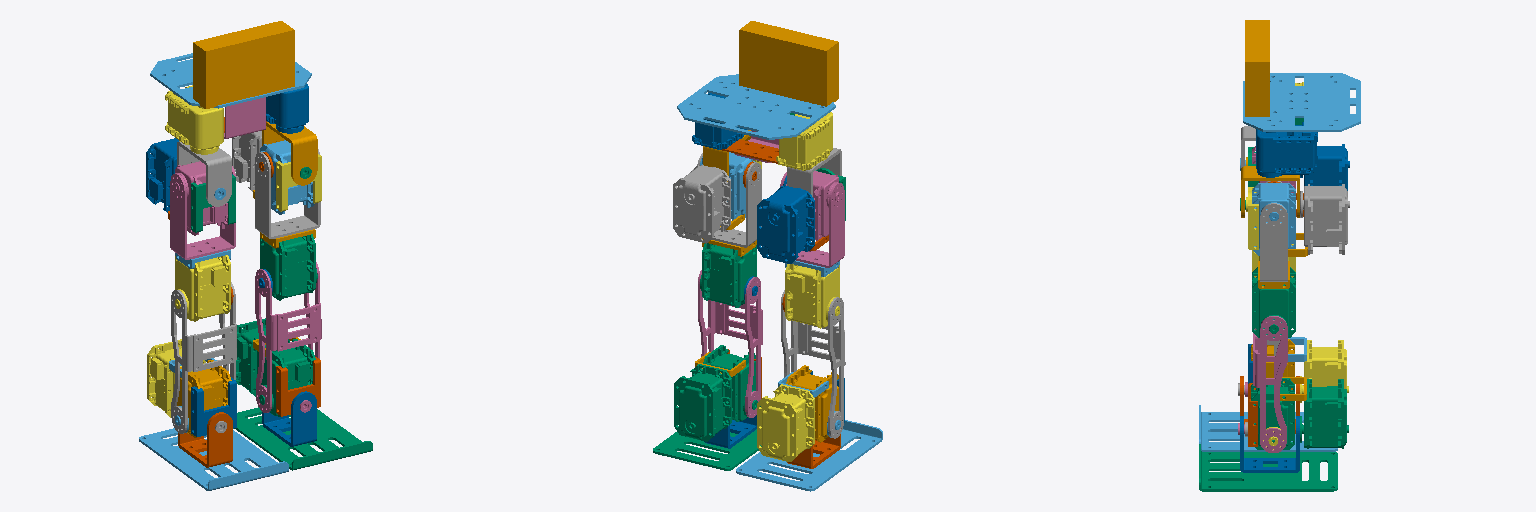
--- Render facts (derived) ---
3 views of the same robot in one strip: view 1: azimuth 30°, elevation 25°; view 2: azimuth 150°, elevation 25°; view 3: azimuth 270°, elevation 25° (orthographic).
Robot: Biped — 51 links, 50 joints (12 continuous, 38 fixed); root link base_link; default pose: every joint at zero.
Links seen in each view (by area): view 1: base_box, Foot_L1, Knee_Foot_Bracket_L1, Knee_Foot_bracket_R1, Foot_R1, Knee_servo_Pitch_L1, Knee_servo_Pitch_R1, Hip_servo_Yaw_L1, Hip_Knee_bracket_L1, Hip_Knee_Backet_R1, base_link, foot_connect_L1 (+17 smaller); view 2: base_box, base_link, Hip_servo_roll_L1, Hip_servo_roll_R1, foot_servo_roll_L1, foot_Servo_roll_R1, Foot_L1, Knee_Foot_Bracket_L1, Knee_Foot_bracket_R1, Knee_servo_Pitch_L1, Knee_servo_Pitch_R1, Foot_R1 (+13 smaller); view 3: base_link, Foot_R1, Hip_servo_roll_R1, Knee_Foot_bracket_R1, foot_Servo_roll_R1, Hip_servo_Yaw__R_1, base_box, Hip_Knee_Backet_R1, Foot_L1, Knee_servo_Pitch_R1, foot_servo_roll_L1, Hip_servo_Pitch_R1 (+5 smaller).
Boxes of the visible links, x1,y1,x2,y2 form: base_box: (193,21,294,108); Foot_L1: (139,428,288,490); Knee_Foot_Bracket_L1: (171,282,236,433); Knee_Foot_bracket_R1: (255,262,321,412); Foot_R1: (234,407,372,470); Knee_servo_Pitch_L1: (175,255,230,321); Knee_servo_Pitch_R1: (260,234,317,300); Hip_servo_Yaw_L1: (165,85,223,154); Hip_Knee_bracket_L1: (170,166,235,259); Hip_Knee_Backet_R1: (255,149,320,238); base_link: (150,53,311,108); foot_connect_L1: (178,412,232,467); base_box: (739,21,838,106); base_link: (677,74,835,139); Hip_servo_roll_L1: (757,186,814,263); Hip_servo_roll_R1: (673,165,730,243); foot_servo_roll_L1: (757,384,814,461); foot_Servo_roll_R1: (674,364,731,441); Foot_L1: (736,420,882,491); Knee_Foot_Bracket_L1: (781,290,845,438); Knee_Foot_bracket_R1: (698,270,762,417); Knee_servo_Pitch_L1: (785,264,839,328); Knee_servo_Pitch_R1: (700,243,756,307); Foot_R1: (653,406,761,470); base_link: (1243,73,1360,131); Foot_R1: (1199,444,1337,491); Hip_servo_roll_R1: (1300,184,1349,254); Knee_Foot_bracket_R1: (1253,316,1287,452); foot_Servo_roll_R1: (1300,379,1348,448); Hip_servo_Yaw__R_1: (1256,122,1317,177); base_box: (1245,20,1269,116); Hip_Knee_Backet_R1: (1260,181,1287,281); Foot_L1: (1199,405,1337,451); Knee_servo_Pitch_R1: (1252,267,1295,337); foot_servo_roll_L1: (1300,340,1348,402); Hip_servo_Pitch_R1: (1252,183,1295,255).
Bounding box of the posed robot: 0.148 × 0.131 × 0.3599 m (x, y, z).
50 mesh visuals loaded from 50 distinct referenced files (50 binary STL).

The robot description file, URDF, robot "Biped":
<?xml version="1.0" ?>
<robot name="Biped">

<material name="silver">
  <color rgba="0.700 0.700 0.700 1.000"/>
</material>

<link name="base_box">
  <inertial>
    
    <!--origin xyz="-0.07139043603557767 -0.16954551899156534 0.300032870177832" rpy="0 0 0"/-->
    <mass value="0.01"/>
    <inertia ixx="0.00025" ixy="0" ixz="0" iyy="0.00089" iyz="0" izz="0.00064"/>
     
     <!--inertia ixx="0.00250000000000000006" ixy="0" ixz="0" iyy="0.0089000000000000002" iyz="0" izz="0.00640" for m= 1/-->
  </inertial>
  <visual>
    <origin xyz="0 0 0" rpy="0 0 0"/>
    <geometry>
      <box size=".08 .02 .05"/>
    </geometry>
    <material name="silver"/>
    <material/>
  </visual>
  <collision>
    <origin xyz="0 0 0" rpy="0 0 0"/>
    <geometry>
      <box size=".08 .02 .05"/>
    </geometry>
  </collision>
</link>

<link name="base_link">
  <inertial>
    <origin xyz="0.06060872462491695 0.036723589973975845 0.30999861161402337" rpy="0 0 0"/>
    <mass value="0.02188916916153513"/>
    <inertia ixx="1.4745375687328505e-05" iyy="2.054443019497247e-05" izz="3.527521310286041e-05" ixy="-9.684751620381694e-09" iyz="-2.168404344971009e-19" ixz="1.0842021724855044e-19"/>
  </inertial>
  <visual>
    <origin xyz="0 0 0" rpy="0 0 0"/>
    <geometry>
      <mesh filename="meshes/base_link.stl" scale="0.001 0.001 0.001"/>
    </geometry>
    <material name="silver"/>
    <material/>
  </visual>
  <collision>
    <origin xyz="0 0 0" rpy="0 0 0"/>
    <geometry>
      <mesh filename="meshes/base_link.stl" scale="0.001 0.001 0.001"/>
    </geometry>
  </collision>
</link>

<link name="connect_link_v11">
  <inertial>
    <origin xyz="8.755939062687901e-08 -0.005999506282332957 -0.0032503883859776317" rpy="0 0 0"/>
    <mass value="0.00969209120805048"/>
    <inertia ixx="4.4427801889897027e-07" iyy="2.5957966162830142e-06" izz="2.9718261595912686e-06" ixy="5.759824041329242e-20" iyz="-2.710505431213761e-20" ixz="0.0"/>
  </inertial>
  <visual>
    <origin xyz="-0.060628 -0.038873 -0.308999" rpy="0 0 0"/>
    <geometry>
      <mesh filename="meshes/connect_link_v11.stl" scale="0.001 0.001 0.001"/>
    </geometry>
    <material name="silver"/>
    <material/>
  </visual>
  <collision>
    <origin xyz="-0.060628 -0.038873 -0.308999" rpy="0 0 0"/>
    <geometry>
      <mesh filename="meshes/connect_link_v11.stl" scale="0.001 0.001 0.001"/>
    </geometry>
  </collision>
</link>

<link name="Hip_servo_Yaw_L1">
  <inertial>
    <origin xyz="-0.013531113018413154 -0.00969047444291548 -0.01700249284622163" rpy="0 0 0"/>
    <mass value="0.056156082900612025"/>
    <inertia ixx="1.6178335463269515e-05" iyy="8.950870395210524e-06" izz="1.3635436612402693e-05" ixy="1.4223614970348356e-08" iyz="-1.1036335249283921e-07" ixz="-1.9200076826824883e-09"/>
  </inertial>
  <visual>
    <origin xyz="-0.035628 -0.032873 -0.302499" rpy="0 0 0"/>
    <geometry>
      <mesh filename="meshes/Hip_servo_Yaw_L1.stl" scale="0.001 0.001 0.001"/>
    </geometry>
    <material name="silver"/>
    <material/>
  </visual>
  <collision>
    <origin xyz="-0.035628 -0.032873 -0.302499" rpy="0 0 0"/>
    <geometry>
      <mesh filename="meshes/Hip_servo_Yaw_L1.stl" scale="0.001 0.001 0.001"/>
    </geometry>
  </collision>
</link>

<link name="Hip_servo_Yaw__R_1">
  <inertial>
    <origin xyz="0.013468886981585007 -0.00969047444291786 -0.016802492846221484" rpy="0 0 0"/>
    <mass value="0.056156082900612025"/>
    <inertia ixx="1.617833546327125e-05" iyy="8.950870395210524e-06" izz="1.3635436612402605e-05" ixy="1.4223614970267041e-08" iyz="-1.1036335249289342e-07" ixz="-1.920007683007749e-09"/>
  </inertial>
  <visual>
    <origin xyz="-0.085628 -0.032873 -0.302499" rpy="0 0 0"/>
    <geometry>
      <mesh filename="meshes/Hip_servo_Yaw__R_1.stl" scale="0.001 0.001 0.001"/>
    </geometry>
    <material name="silver"/>
    <material/>
  </visual>
  <collision>
    <origin xyz="-0.085628 -0.032873 -0.302499" rpy="0 0 0"/>
    <geometry>
      <mesh filename="meshes/Hip_servo_Yaw__R_1.stl" scale="0.001 0.001 0.001"/>
    </geometry>
  </collision>
</link>

<link name="connect_link_21">
  <inertial>
    <origin xyz="0.025000087559390392 4.93717667540694e-07 -0.0007503883859772409" rpy="0 0 0"/>
    <mass value="0.0022366364326270346"/>
    <inertia ixx="9.507024189355125e-08" iyy="5.915745335974634e-07" izz="6.858060368287546e-07" ixy="1.4399560103323106e-20" iyz="3.3881317890172014e-21" ixz="6.776263578034403e-21"/>
  </inertial>
  <visual>
    <origin xyz="-0.035628 -0.032873 -0.270499" rpy="0 0 0"/>
    <geometry>
      <mesh filename="meshes/connect_link_21.stl" scale="0.001 0.001 0.001"/>
    </geometry>
    <material name="silver"/>
    <material/>
  </visual>
  <collision>
    <origin xyz="-0.035628 -0.032873 -0.270499" rpy="0 0 0"/>
    <geometry>
      <mesh filename="meshes/connect_link_21.stl" scale="0.001 0.001 0.001"/>
    </geometry>
  </collision>
</link>

<link name="support_link1">
  <inertial>
    <origin xyz="8.755938650517603e-08 -0.01899092222380293 0.008312349694208576" rpy="0 0 0"/>
    <mass value="0.004271598629814522"/>
    <inertia ixx="9.380132827919367e-07" iyy="9.819874908971005e-07" izz="8.644459883259723e-07" ixy="-2.82061971435682e-19" iyz="2.809956492261554e-07" ixz="1.4907779871675686e-19"/>
  </inertial>
  <visual>
    <origin xyz="-0.060628 -0.038873 -0.268999" rpy="0 0 0"/>
    <geometry>
      <mesh filename="meshes/support_link1.stl" scale="0.001 0.001 0.001"/>
    </geometry>
    <material name="silver"/>
    <material/>
  </visual>
  <collision>
    <origin xyz="-0.060628 -0.038873 -0.268999" rpy="0 0 0"/>
    <geometry>
      <mesh filename="meshes/support_link1.stl" scale="0.001 0.001 0.001"/>
    </geometry>
  </collision>
</link>

<link name="Hip_bracket_yaw_L_v11">
  <inertial>
    <origin xyz="8.755937528151514e-08 -0.00019455926519733498 -0.012368152810058874" rpy="0 0 0"/>
    <mass value="0.008735700587823858"/>
    <inertia ixx="4.557715173367227e-06" iyy="1.596604357873184e-06" izz="3.6811077103368883e-06" ixy="-8.343274530454858e-20" iyz="-2.8340072973809954e-08" ixz="-3.503328269843786e-18"/>
  </inertial>
  <visual>
    <origin xyz="-0.022128 -0.010373 -0.265499" rpy="0 0 0"/>
    <geometry>
      <mesh filename="meshes/Hip_bracket_yaw_L_v11.stl" scale="0.001 0.001 0.001"/>
    </geometry>
    <material name="silver"/>
    <material/>
  </visual>
  <collision>
    <origin xyz="-0.022128 -0.010373 -0.265499" rpy="0 0 0"/>
    <geometry>
      <mesh filename="meshes/Hip_bracket_yaw_L_v11.stl" scale="0.001 0.001 0.001"/>
    </geometry>
  </collision>
</link>

<link name="Hip_Bracket_yaw_R1">
  <inertial>
    <origin xyz="8.755937279392167e-08 -0.0001945592651994444 -0.012368152810057986" rpy="0 0 0"/>
    <mass value="0.008735700587823858"/>
    <inertia ixx="4.557715173370263e-06" iyy="1.5966043578800144e-06" izz="3.681107710333268e-06" ixy="-7.115076756936123e-20" iyz="-2.8340072973769297e-08" ixz="-3.415236843329339e-18"/>
  </inertial>
  <visual>
    <origin xyz="-0.099128 -0.010373 -0.265699" rpy="0 0 0"/>
    <geometry>
      <mesh filename="meshes/Hip_Bracket_yaw_R1.stl" scale="0.001 0.001 0.001"/>
    </geometry>
    <material name="silver"/>
    <material/>
  </visual>
  <collision>
    <origin xyz="-0.099128 -0.010373 -0.265699" rpy="0 0 0"/>
    <geometry>
      <mesh filename="meshes/Hip_Bracket_yaw_R1.stl" scale="0.001 0.001 0.001"/>
    </geometry>
  </collision>
</link>

<link name="Bush_2_1">
  <inertial>
    <origin xyz="0.022128087559382902 0.21457600178506725 -0.04262638838534463" rpy="0 0 0"/>
    <mass value="0.00033912761870964644"/>
    <inertia ixx="3.5534106983028924e-09" iyy="4.084788845227892e-09" izz="3.553410474846204e-09" ixy="-2.6469779601696886e-23" iyz="-1.4336032632279033e-19" ixz="2.117582368135751e-22"/>
  </inertial>
  <visual>
    <origin xyz="0.0 0.226125 -0.279125" rpy="0 0 0"/>
    <geometry>
      <mesh filename="meshes/Bush_2_1.stl" scale="0.001 0.001 0.001"/>
    </geometry>
    <material name="silver"/>
    <material/>
  </visual>
  <collision>
    <origin xyz="0.0 0.226125 -0.279125" rpy="0 0 0"/>
    <geometry>
      <mesh filename="meshes/Bush_2_1.stl" scale="0.001 0.001 0.001"/>
    </geometry>
  </collision>
</link>

<link name="Bush_1_v11">
  <inertial>
    <origin xyz="-0.07712791244061934 -0.2586209982149346 -0.04262638838534433" rpy="0 0 0"/>
    <mass value="0.00033912761870964644"/>
    <inertia ixx="3.5534106983028924e-09" iyy="4.084788845234668e-09" izz="3.553410474846707e-09" ixy="5.293955920339377e-23" iyz="-1.4336032632279033e-19" ixz="0.0"/>
  </inertial>
  <visual>
    <origin xyz="-0.176256 -0.247072 -0.279325" rpy="0 0 0"/>
    <geometry>
      <mesh filename="meshes/Bush_1_v11.stl" scale="0.001 0.001 0.001"/>
    </geometry>
    <material name="silver"/>
    <material/>
  </visual>
  <collision>
    <origin xyz="-0.176256 -0.247072 -0.279325" rpy="0 0 0"/>
    <geometry>
      <mesh filename="meshes/Bush_1_v11.stl" scale="0.001 0.001 0.001"/>
    </geometry>
  </collision>
</link>

<link name="Washer_11">
  <inertial>
    <origin xyz="-0.09912791244096347 -0.008551506282331372 0.2366986116140234" rpy="0 0 0"/>
    <mass value="0.0001569470040624276"/>
    <inertia ixx="2.095397917133054e-09" iyy="4.096365919137407e-09" izz="2.095397782786852e-09" ixy="2.6469779601696886e-23" iyz="0.0" ixz="4.235164736271502e-22"/>
  </inertial>
  <visual>
    <origin xyz="-0.198256 -0.0 -0.0" rpy="0 0 0"/>
    <geometry>
      <mesh filename="meshes/Washer_11.stl" scale="0.001 0.001 0.001"/>
    </geometry>
    <material name="silver"/>
    <material/>
  </visual>
  <collision>
    <origin xyz="-0.198256 -0.0 -0.0" rpy="0 0 0"/>
    <geometry>
      <mesh filename="meshes/Washer_11.stl" scale="0.001 0.001 0.001"/>
    </geometry>
  </collision>
</link>

<link name="Hip_servo_roll_L1">
  <inertial>
    <origin xyz="0.02212792246244539 0.28094966903192353 -0.005937424755607296" rpy="0 0 0"/>
    <mass value="0.05848616148988177"/>
    <inertia ixx="1.6766044291456443e-05" iyy="1.3912202333722732e-05" izz="1.0380681129501561e-05" ixy="-2.87094284597781e-10" iyz="4.782213604587627e-07" ixz="4.278207660097372e-10"/>
  </inertial>
  <visual>
    <origin xyz="0.0 0.226125 -0.231125" rpy="0 0 0"/>
    <geometry>
      <mesh filename="meshes/Hip_servo_roll_L1.stl" scale="0.001 0.001 0.001"/>
    </geometry>
    <material name="silver"/>
    <material/>
  </visual>
  <collision>
    <origin xyz="0.0 0.226125 -0.231125" rpy="0 0 0"/>
    <geometry>
      <mesh filename="meshes/Hip_servo_roll_L1.stl" scale="0.001 0.001 0.001"/>
    </geometry>
  </collision>
</link>

<link name="Support_roll_servo_L1">
  <inertial>
    <origin xyz="-0.008342818068121632 -0.007693332734379908 -8.605220785384837e-07" rpy="0 0 0"/>
    <mass value="0.001003390579055556"/>
    <inertia ixx="5.969253484000835e-08" iyy="1.9068402818395841e-07" izz="2.44845355143008e-07" ixy="-1.0691242380712038e-09" iyz="-8.557850778121313e-13" ixz="1.6064752087411026e-10"/>
  </inertial>
  <visual>
    <origin xyz="-0.030628 -0.040148 -0.200699" rpy="0 0 0"/>
    <geometry>
      <mesh filename="meshes/Support_roll_servo_L1.stl" scale="0.001 0.001 0.001"/>
    </geometry>
    <material name="silver"/>
    <material/>
  </visual>
  <collision>
    <origin xyz="-0.030628 -0.040148 -0.200699" rpy="0 0 0"/>
    <geometry>
      <mesh filename="meshes/Support_roll_servo_L1.stl" scale="0.001 0.001 0.001"/>
    </geometry>
  </collision>
</link>

<link name="Hip_servo_Pitch_L1">
  <inertial>
    <origin xyz="0.014675874563868638 -0.00849934833873182 0.02448944364464442" rpy="0 0 0"/>
    <mass value="0.05848616148988177"/>
    <inertia ixx="1.3912202333719696e-05" iyy="1.6766044291457744e-05" izz="1.038068112949967e-05" ixy="2.8709428237516654e-10" iyz="-4.278207647357996e-10" ixz="4.782213604587085e-07"/>
  </inertial>
  <visual>
    <origin xyz="-0.007126 -0.021598 -0.200711" rpy="0 0 0"/>
    <geometry>
      <mesh filename="meshes/Hip_servo_Pitch_L1.stl" scale="0.001 0.001 0.001"/>
    </geometry>
    <material name="silver"/>
    <material/>
  </visual>
  <collision>
    <origin xyz="-0.007126 -0.021598 -0.200711" rpy="0 0 0"/>
    <geometry>
      <mesh filename="meshes/Hip_servo_Pitch_L1.stl" scale="0.001 0.001 0.001"/>
    </geometry>
  </collision>
</link>

<link name="Hip_servo_roll_R1">
  <inertial>
    <origin xyz="-7.753755698614029e-08 0.02042667618526226 -0.011311424755605842" rpy="0 0 0"/>
    <mass value="0.05848616148988177"/>
    <inertia ixx="1.6766044291457744e-05" iyy="1.3912202333722732e-05" izz="1.0380681129502347e-05" ixy="-2.870942846519911e-10" iyz="4.782213604588711e-07" ixz="4.278207660097372e-10"/>
  </inertial>
  <visual>
    <origin xyz="-0.099128 -0.034373 -0.236699" rpy="0 0 0"/>
    <geometry>
      <mesh filename="meshes/Hip_servo_roll_R1.stl" scale="0.001 0.001 0.001"/>
    </geometry>
    <material name="silver"/>
    <material/>
  </visual>
  <collision>
    <origin xyz="-0.099128 -0.034373 -0.236699" rpy="0 0 0"/>
    <geometry>
      <mesh filename="meshes/Hip_servo_roll_R1.stl" scale="0.001 0.001 0.001"/>
    </geometry>
  </collision>
</link>

<link name="Support_roll_Servo_R1">
  <inertial>
    <origin xyz="-0.008482904734634547 -0.007763870604140438 -7.445276328510442e-07" rpy="0 0 0"/>
    <mass value="0.000991152631600229"/>
    <inertia ixx="5.899142983411561e-08" iyy="1.8810254074607535e-07" izz="2.4162816800247254e-07" ixy="-6.052279683857172e-11" iyz="-1.6902670593133494e-12" ixz="1.5851502979013143e-10"/>
  </inertial>
  <visual>
    <origin xyz="-0.107628 -0.040123 -0.200899" rpy="0 0 0"/>
    <geometry>
      <mesh filename="meshes/Support_roll_Servo_R1.stl" scale="0.001 0.001 0.001"/>
    </geometry>
    <material name="silver"/>
    <material/>
  </visual>
  <collision>
    <origin xyz="-0.107628 -0.040123 -0.200899" rpy="0 0 0"/>
    <geometry>
      <mesh filename="meshes/Support_roll_Servo_R1.stl" scale="0.001 0.001 0.001"/>
    </geometry>
  </collision>
</link>

<link name="Hip_servo_Pitch_R1">
  <inertial>
    <origin xyz="-0.014676502879000491 -0.008499671379272359 0.024488710964318067" rpy="0 0 0"/>
    <mass value="0.05848616148988177"/>
    <inertia ixx="1.3912202333717094e-05" iyy="1.6766044291459913e-05" izz="1.0380681129500396e-05" ixy="2.8709428341871113e-10" iyz="4.2782076619947255e-10" ixz="-4.782213604574617e-07"/>
  </inertial>
  <visual>
    <origin xyz="-0.114126 -0.021593 -0.200886" rpy="0 0 0"/>
    <geometry>
      <mesh filename="meshes/Hip_servo_Pitch_R1.stl" scale="0.001 0.001 0.001"/>
    </geometry>
    <material name="silver"/>
    <material/>
  </visual>
  <collision>
    <origin xyz="-0.114126 -0.021593 -0.200886" rpy="0 0 0"/>
    <geometry>
      <mesh filename="meshes/Hip_servo_Pitch_R1.stl" scale="0.001 0.001 0.001"/>
    </geometry>
  </collision>
</link>

<link name="side_attach_L_hip1">
  <inertial>
    <origin xyz="0.014999692096273623 -0.0030449648531452583 -0.0129790855107213" rpy="0 0 0"/>
    <mass value="0.0051821405505521004"/>
    <inertia ixx="6.678809461064129e-07" iyy="1.5448767594578657e-06" izz="9.305088933269494e-07" ixy="1.376428539288238e-20" iyz="2.639983998775246e-08" ixz="-4.0657581468206416e-20"/>
  </inertial>
  <visual>
    <origin xyz="-0.007126 0.001902 -0.241011" rpy="0 0 0"/>
    <geometry>
      <mesh filename="meshes/side_attach_L_hip1.stl" scale="0.001 0.001 0.001"/>
    </geometry>
    <material name="silver"/>
    <material/>
  </visual>
  <collision>
    <origin xyz="-0.007126 0.001902 -0.241011" rpy="0 0 0"/>
    <geometry>
      <mesh filename="meshes/side_attach_L_hip1.stl" scale="0.001 0.001 0.001"/>
    </geometry>
  </collision>
</link>

<link name="side_attach_R_hip1">
  <inertial>
    <origin xyz="0.014999679588596604 -0.0030449576998069347 -0.012979818191048487" rpy="0 0 0"/>
    <mass value="0.0051821405505521004"/>
    <inertia ixx="6.678809461064129e-07" iyy="1.5448767594578115e-06" izz="9.305088933269325e-07" ixy="4.1081097941833566e-20" iyz="2.6399839987756695e-08" ixz="-5.421010862427522e-20"/>
  </inertial>
  <visual>
    <origin xyz="-0.084126 0.001907 -0.241186" rpy="0 0 0"/>
    <geometry>
      <mesh filename="meshes/side_attach_R_hip1.stl" scale="0.001 0.001 0.001"/>
    </geometry>
    <material name="silver"/>
    <material/>
  </visual>
  <collision>
    <origin xyz="-0.084126 0.001907 -0.241186" rpy="0 0 0"/>
    <geometry>
      <mesh filename="meshes/side_attach_R_hip1.stl" scale="0.001 0.001 0.001"/>
    </geometry>
  </collision>
</link>

<link name="Horn_L_pitch1">
  <inertial>
    <origin xyz="0.0012521355878538712 4.865593969827914e-07 4.813353695898304e-07" rpy="0 0 0"/>
    <mass value="0.0010452069679460242"/>
    <inertia ixx="5.912619983875389e-08" iyy="3.074557111910957e-08" izz="3.074619929578471e-08" ixy="-1.0727354639620493e-17" iyz="-9.826429221097138e-18" ixz="2.9483977007094004e-13"/>
  </inertial>
  <visual>
    <origin xyz="-0.041376 -0.013098 -0.236511" rpy="0 0 0"/>
    <geometry>
      <mesh filename="meshes/Horn_L_pitch1.stl" scale="0.001 0.001 0.001"/>
    </geometry>
    <material name="silver"/>
    <material/>
  </visual>
  <collision>
    <origin xyz="-0.041376 -0.013098 -0.236511" rpy="0 0 0"/>
    <geometry>
      <mesh filename="meshes/Horn_L_pitch1.stl" scale="0.001 0.001 0.001"/>
    </geometry>
  </collision>
</link>

<link name="Horn_R_pitch1">
  <inertial>
    <origin xyz="-0.0012527639029847326 4.937225982701299e-07 -2.5134495748591057e-07" rpy="0 0 0"/>
    <mass value="0.0010452069679460242"/>
    <inertia ixx="5.912619983876067e-08" iyy="3.074557111909602e-08" izz="3.0746199295786403e-08" ixy="-1.072682524402846e-17" iyz="9.827276254044393e-18" ixz="-2.9483976837687415e-13"/>
  </inertial>
  <visual>
    <origin xyz="-0.079876 -0.013093 -0.236686" rpy="0 0 0"/>
    <geometry>
      <mesh filename="meshes/Horn_R_pitch1.stl" scale="0.001 0.001 0.001"/>
    </geometry>
    <material name="silver"/>
    <material/>
  </visual>
  <collision>
    <origin xyz="-0.079876 -0.013093 -0.236686" rpy="0 0 0"/>
    <geometry>
      <mesh filename="meshes/Horn_R_pitch1.stl" scale="0.001 0.001 0.001"/>
    </geometry>
  </collision>
</link>

<link name="Hip_Knee_bracket_L1">
  <inertial>
    <origin xyz="0.021249692096275977 4.865643284390764e-07 -0.033829438471636136" rpy="0 0 0"/>
    <mass value="0.009175751935708147"/>
    <inertia ixx="4.594487188322037e-06" iyy="8.003394278945509e-06" izz="4.152987321468783e-06" ixy="4.1928130889087867e-20" iyz="5.421010862427522e-20" ixz="6.301925127571995e-19"/>
  </inertial>
  <visual>
    <origin xyz="-0.001376 -0.013098 -0.236511" rpy="0 0 0"/>
    <geometry>
      <mesh filename="meshes/Hip_Knee_bracket_L1.stl" scale="0.001 0.001 0.001"/>
    </geometry>
    <material name="silver"/>
    <material/>
  </visual>
  <collision>
    <origin xyz="-0.001376 -0.013098 -0.236511" rpy="0 0 0"/>
    <geometry>
      <mesh filename="meshes/Hip_Knee_bracket_L1.stl" scale="0.001 0.001 0.001"/>
    </geometry>
  </collision>
</link>

<link name="Hip_Knee_Backet_R1">
  <inertial>
    <origin xyz="-0.021250320411406745 4.937176672527299e-07 -0.03383017115196263" rpy="0 0 0"/>
    <mass value="0.009175751935708147"/>
    <inertia ixx="4.5944871883218746e-06" iyy="8.0033942789454e-06" izz="4.15298732146876e-06" ixy="6.098637220230962e-20" iyz="9.486769009248164e-20" ixz="-6.2341624917916505e-19"/>
  </inertial>
  <visual>
    <origin xyz="-0.119876 -0.013093 -0.236686" rpy="0 0 0"/>
    <geometry>
      <mesh filename="meshes/Hip_Knee_Backet_R1.stl" scale="0.001 0.001 0.001"/>
    </geometry>
    <material name="silver"/>
    <material/>
  </visual>
  <collision>
    <origin xyz="-0.119876 -0.013093 -0.236686" rpy="0 0 0"/>
    <geometry>
      <mesh filename="meshes/Hip_Knee_Backet_R1.stl" scale="0.001 0.001 0.001"/>
    </geometry>
  </collision>
</link>

<link name="Knee_attach_R1">
  <inertial>
    <origin xyz="-0.006000320411404053 0.005000493717670246 -0.002398275087053814" rpy="0 0 0"/>
    <mass value="0.004096604584621629"/>
    <inertia ixx="2.3788320348527283e-07" iyy="5.967941100390168e-07" izz="8.00202789891466e-07" ixy="5.082197683525802e-21" iyz="1.2027867851011065e-19" ixz="0.0"/>
  </inertial>
  <visual>
    <origin xyz="-0.104626 -0.008093 -0.177786" rpy="0 0 0"/>
    <geometry>
      <mesh filename="meshes/Knee_attach_R1.stl" scale="0.001 0.001 0.001"/>
    </geometry>
    <material name="silver"/>
    <material/>
  </visual>
  <collision>
    <origin xyz="-0.104626 -0.008093 -0.177786" rpy="0 0 0"/>
    <geometry>
      <mesh filename="meshes/Knee_attach_R1.stl" scale="0.001 0.001 0.001"/>
    </geometry>
  </collision>
</link>

<link name="Knee_attach_L1">
  <inertial>
    <origin xyz="0.005999692096272949 0.0050004865643309675 -0.002397542406727099" rpy="0 0 0"/>
    <mass value="0.004096604584621629"/>
    <inertia ixx="2.3788320348529994e-07" iyy="5.967941100390168e-07" izz="8.002027898914601e-07" ixy="4.446922973085077e-21" iyz="1.2366681029912785e-19" ixz="-3.3881317890172014e-21"/>
  </inertial>
  <visual>
    <origin xyz="-0.016626 -0.008098 -0.177611" rpy="0 0 0"/>
    <geometry>
      <mesh filename="meshes/Knee_attach_L1.stl" scale="0.001 0.001 0.001"/>
    </geometry>
    <material name="silver"/>
    <material/>
  </visual>
  <collision>
    <origin xyz="-0.016626 -0.008098 -0.177611" rpy="0 0 0"/>
    <geometry>
      <mesh filename="meshes/Knee_attach_L1.stl" scale="0.001 0.001 0.001"/>
    </geometry>
  </collision>
</link>

<link name="Knee_servo_Pitch_R1">
  <inertial>
    <origin xyz="-0.014676502879000353 0.008500658814608045 -0.024489216296418842" rpy="0 0 0"/>
    <mass value="0.05848616148988177"/>
    <inertia ixx="1.3912202333717745e-05" iyy="1.6766044291459262e-05" izz="1.0380681129502022e-05" ixy="-2.8709428542448515e-10" iyz="4.278207651694805e-10" ixz="4.782213604577869e-07"/>
  </inertial>
  <visual>
    <origin xyz="-0.113626 -0.004593 -0.171986" rpy="0 0 0"/>
    <geometry>
      <mesh filename="meshes/Knee_servo_Pitch_R1.stl" scale="0.001 0.001 0.001"/>
    </geometry>
    <material name="silver"/>
    <material/>
  </visual>
  <collision>
    <origin xyz="-0.113626 -0.004593 -0.171986" rpy="0 0 0"/>
    <geometry>
      <mesh filename="meshes/Knee_servo_Pitch_R1.stl" scale="0.001 0.001 0.001"/>
    </geometry>
  </collision>
</link>

<link name="Knee_servo_Pitch_L1">
  <inertial>
    <origin xyz="0.014675874563868638 0.008500321467389181 -0.024488483616092294" rpy="0 0 0"/>
    <mass value="0.05848616148988177"/>
    <inertia ixx="1.3912202333716877e-05" iyy="1.676604429146013e-05" izz="1.0380681129501331e-05" ixy="-2.870942852584667e-10" iyz="-4.2782076469514204e-10" ixz="-4.782213604581122e-07"/>
  </inertial>
  <visual>
    <origin xyz="-0.007626 -0.004598 -0.171811" rpy="0 0 0"/>
    <geometry>
      <mesh filename="meshes/Knee_servo_Pitch_L1.stl" scale="0.001 0.001 0.001"/>
    </geometry>
    <material name="silver"/>
    <material/>
  </visual>
  <collision>
    <origin xyz="-0.007626 -0.004598 -0.171811" rpy="0 0 0"/>
    <geometry>
      <mesh filename="meshes/Knee_servo_Pitch_L1.stl" scale="0.001 0.001 0.001"/>
    </geometry>
  </collision>
</link>

<link name="Horn_knee_R1">
  <inertial>
    <origin xyz="-0.001252763902984913 4.937226001661826e-07 -2.5134495568179815e-07" rpy="0 0 0"/>
    <mass value="0.0010452069679460242"/>
    <inertia ixx="5.9126199838750504e-08" iyy="3.074557111909602e-08" izz="3.0746199295785556e-08" ixy="-1.0727037002265273e-17" iyz="9.827276254044393e-18" ixz="-2.9483977007094004e-13"/>
  </inertial>
  <visual>
    <origin xyz="-0.079376 -0.013093 -0.136186" rpy="0 0 0"/>
    <geometry>
      <mesh filename="meshes/Horn_knee_R1.stl" scale="0.001 0.001 0.001"/>
    </geometry>
    <material name="silver"/>
    <material/>
  </visual>
  <collision>
    <origin xyz="-0.079376 -0.013093 -0.136186" rpy="0 0 0"/>
    <geometry>
      <mesh filename="meshes/Horn_knee_R1.stl" scale="0.001 0.001 0.001"/>
    </geometry>
  </collision>
</link>

<link name="horn_knee_L1">
  <inertial>
    <origin xyz="0.002252135587853879 4.865593970278942e-07 4.813353710608759e-07" rpy="0 0 0"/>
    <mass value="0.0010452069679460242"/>
    <inertia ixx="5.9126199838747116e-08" iyy="3.0745571119099405e-08" izz="3.074619929578513e-08" ixy="-1.0727037002265273e-17" iyz="-9.827276254044393e-18" ixz="2.94839770917973e-13"/>
  </inertial>
  <visual>
    <origin xyz="-0.040776 -0.013098 -0.136011" rpy="0 0 0"/>
    <geometry>
      <mesh filename="meshes/horn_knee_L1.stl" scale="0.001 0.001 0.001"/>
    </geometry>
    <material name="silver"/>
    <material/>
  </visual>
  <collision>
    <origin xyz="-0.040776 -0.013098 -0.136011" rpy="0 0 0"/>
    <geometry>
      <mesh filename="meshes/horn_knee_L1.stl" scale="0.001 0.001 0.001"/>
    </geometry>
  </collision>
</link>

<link name="Knee_Foot_bracket_R1">
  <inertial>
    <origin xyz="-0.020750320411406342 -0.005736828540610742 -0.045869017981759186" rpy="0 0 0"/>
    <mass value="0.01132882807356771"/>
    <inertia ixx="1.2028771165940581e-05" iyy="1.55864745617426e-05" izz="5.285440237642322e-06" ixy="-2.6359665318553827e-18" iyz="3.3191643722885005e-07" ixz="-4.824699667560495e-18"/>
  </inertial>
  <visual>
    <origin xyz="-0.119376 -0.013093 -0.136186" rpy="0 0 0"/>
    <geometry>
      <mesh filename="meshes/Knee_Foot_bracket_R1.stl" scale="0.001 0.001 0.001"/>
    </geometry>
    <material name="silver"/>
    <material/>
  </visual>
  <collision>
    <origin xyz="-0.119376 -0.013093 -0.136186" rpy="0 0 0"/>
    <geometry>
      <mesh filename="meshes/Knee_Foot_bracket_R1.stl" scale="0.001 0.001 0.001"/>
    </geometry>
  </collision>
</link>

<link name="Knee_Foot_Bracket_L1">
  <inertial>
    <origin xyz="0.02074969209627193 -0.005736835693952584 -0.04586828530143351" rpy="0 0 0"/>
    <mass value="0.01132882807356771"/>
    <inertia ixx="1.2028771165943156e-05" iyy="1.558647456173733e-05" izz="5.285440237642529e-06" ixy="-1.0532854699107225e-18" iyz="3.319164372288721e-07" ixz="-4.360525612465138e-18"/>
  </inertial>
  <visual>
    <origin xyz="-0.001876 -0.013098 -0.136011" rpy="0 0 0"/>
    <geometry>
      <mesh filename="meshes/Knee_Foot_Bracket_L1.stl" scale="0.001 0.001 0.001"/>
    </geometry>
    <material name="silver"/>
    <material/>
  </visual>
  <collision>
    <origin xyz="-0.001876 -0.013098 -0.136011" rpy="0 0 0"/>
    <geometry>
      <mesh filename="meshes/Knee_Foot_Bracket_L1.stl" scale="0.001 0.001 0.001"/>
    </geometry>
  </collision>
</link>

<link name="Foot_servo_pitch_L1">
  <inertial>
    <origin xyz="-0.02042649037132176 6.579111523682263e-07 0.011310766149735293" rpy="0 0 0"/>
    <mass value="0.05848616148988177"/>
    <inertia ixx="1.3912202333717365e-05" iyy="1.67660442914575e-05" izz="1.0380681129498919e-05" ixy="-2.8709428463505045e-10" iyz="4.2782076392942426e-10" ixz="4.782213604566349e-07"/>
  </inertial>
  <visual>
    <origin xyz="-0.043376 -0.012598 -0.036013" rpy="0 0 0"/>
    <geometry>
      <mesh filename="meshes/Foot_servo_pitch_L1.stl" scale="0.001 0.001 0.001"/>
    </geometry>
    <material name="silver"/>
    <material/>
  </visual>
  <collision>
    <origin xyz="-0.043376 -0.012598 -0.036013" rpy="0 0 0"/>
    <geometry>
      <mesh filename="meshes/Foot_servo_pitch_L1.stl" scale="0.001 0.001 0.001"/>
    </geometry>
  </collision>
</link>

<link name="Horn_foot_L1">
  <inertial>
    <origin xyz="-0.08656475139530725 -0.03292450718085519 0.04509873110119793" rpy="0 0 0"/>
    <mass value="0.0010452069679460242"/>
    <inertia ixx="5.912619983874902e-08" iyy="3.074557111909665e-08" izz="3.074619929578468e-08" ixy="-1.0726944358036667e-17" iyz="9.827223314485189e-18" ixz="-2.9483976968712824e-13"/>
  </inertial>
  <visual>
    <origin xyz="-0.088888 -0.045523 0.009086" rpy="0 0 0"/>
    <geometry>
      <mesh filename="meshes/Horn_foot_L1.stl" scale="0.001 0.001 0.001"/>
    </geometry>
    <material name="silver"/>
    <material/>
  </visual>
  <collision>
    <origin xyz="-0.088888 -0.045523 0.009086" rpy="0 0 0"/>
    <geometry>
      <mesh filename="meshes/Horn_foot_L1.stl" scale="0.001 0.001 0.001"/>
    </geometry>
  </collision>
</link>

<link name="Foot_servo_pitch_R1">
  <inertial>
    <origin xyz="0.02042586205619032 3.348706169078314e-07 0.01131103346940917" rpy="0 0 0"/>
    <mass value="0.05848616148988177"/>
    <inertia ixx="1.39122023337175e-05" iyy="1.676604429146089e-05" izz="1.0380681129499203e-05" ixy="-2.8709428458422847e-10" iyz="-4.278207643156713e-10" ixz="-4.782213604578411e-07"/>
  </inertial>
  <visual>
    <origin xyz="-0.077876 -0.012593 -0.036187" rpy="0 0 0"/>
    <geometry>
      <mesh filename="meshes/Foot_servo_pitch_R1.stl" scale="0.001 0.001 0.001"/>
    </geometry>
    <material name="silver"/>
    <material/>
  </visual>
  <collision>
    <origin xyz="-0.077876 -0.012593 -0.036187" rpy="0 0 0"/>
    <geometry>
      <mesh filename="meshes/Foot_servo_pitch_R1.stl" scale="0.001 0.001 0.001"/>
    </geometry>
  </collision>
</link>

<link name="horn_foot_R1">
  <inertial>
    <origin xyz="0.08673912308017687 -0.07717550003737624 0.045093998420873006" rpy="0 0 0"/>
    <mass value="0.0010452069679460242"/>
    <inertia ixx="5.9126199838749445e-08" iyy="3.0745571119099405e-08" izz="3.074619929578386e-08" ixy="-1.0728095793449341e-17" iyz="-9.827064495807579e-18" ixz="2.94839770917973e-13"/>
  </inertial>
  <visual>
    <origin xyz="-0.032189 -0.089769 0.008907" rpy="0 0 0"/>
    <geometry>
      <mesh filename="meshes/horn_foot_R1.stl" scale="0.001 0.001 0.001"/>
    </geometry>
    <material name="silver"/>
    <material/>
  </visual>
  <collision>
    <origin xyz="-0.032189 -0.089769 0.008907" rpy="0 0 0"/>
    <geometry>
      <mesh filename="meshes/horn_foot_R1.stl" scale="0.001 0.001 0.001"/>
    </geometry>
  </collision>
</link>

<link name="side_attach_foot_L1">
  <inertial>
    <origin xyz="0.01499969209627203 -0.003044958603260741 -0.02102070469489966" rpy="0 0 0"/>
    <mass value="0.0051821405505521004"/>
    <inertia ixx="6.678809461064637e-07" iyy="1.5448767594579199e-06" izz="9.305088933269494e-07" ixy="1.7470054537119944e-20" iyz="-2.6399839987736366e-08" ixz="-4.0657581468206416e-20"/>
  </inertial>
  <visual>
    <origin xyz="-0.007626 0.002402 -0.065513" rpy="0 0 0"/>
    <geometry>
      <mesh filename="meshes/side_attach_foot_L1.stl" scale="0.001 0.001 0.001"/>
    </geometry>
    <material name="silver"/>
    <material/>
  </visual>
  <collision>
    <origin xyz="-0.007626 0.002402 -0.065513" rpy="0 0 0"/>
    <geometry>
      <mesh filename="meshes/side_attach_foot_L1.stl" scale="0.001 0.001 0.001"/>
    </geometry>
  </collision>
</link>

<link name="side_attach_foot_R1">
  <inertial>
    <origin xyz="0.014999679588593176 -0.0030449514499178132 -0.021020437375226145" rpy="0 0 0"/>
    <mass value="0.0051821405505521004"/>
    <inertia ixx="6.67880946106462e-07" iyy="1.5448767594579334e-06" izz="9.305088933269528e-07" ixy="6.098637220230962e-20" iyz="-2.6399839987733613e-08" ixz="-4.743384504624082e-20"/>
  </inertial>
  <visual>
    <origin xyz="-0.083626 0.002407 -0.065687" rpy="0 0 0"/>
    <geometry>
      <mesh filename="meshes/side_attach_foot_R1.stl" scale="0.001 0.001 0.001"/>
    </geometry>
    <material name="silver"/>
    <material/>
  </visual>
  <collision>
    <origin xyz="-0.083626 0.002407 -0.065687" rpy="0 0 0"/>
    <geometry>
      <mesh filename="meshes/side_attach_foot_R1.stl" scale="0.001 0.001 0.001"/>
    </geometry>
  </collision>
</link>

<link name="Washer_31">
  <inertial>
    <origin xyz="-3.079033827589617e-07 -0.0009495071857869766 -2.702198959314561e-07" rpy="0 0 0"/>
    <mass value="0.0001569470040624276"/>
    <inertia ixx="2.0953979171312804e-09" iyy="4.096365919140425e-09" izz="2.0953977827867066e-09" ixy="3.970466940254533e-23" iyz="2.6469779601696886e-23" ixz="-2.6469779601696886e-23"/>
  </inertial>
  <visual>
    <origin xyz="-0.022626 0.008202 -0.036013" rpy="0 0 0"/>
    <geometry>
      <mesh filename="meshes/Washer_31.stl" scale="0.001 0.001 0.001"/>
    </geometry>
    <material name="silver"/>
    <material/>
  </visual>
  <collision>
    <origin xyz="-0.022626 0.008202 -0.036013" rpy="0 0 0"/>
    <geometry>
      <mesh filename="meshes/Washer_31.stl" scale="0.001 0.001 0.001"/>
    </geometry>
  </collision>
</link>

<link name="Washer_41">
  <inertial>
    <origin xyz="-3.2041106155789034e-07 -0.0009495000324434687 -2.900222124957441e-09" rpy="0 0 0"/>
    <mass value="0.0001569470040624276"/>
    <inertia ixx="2.0953979171312275e-09" iyy="4.0963659191399485e-09" izz="2.0953977827866404e-09" ixy="1.3234889800848443e-22" iyz="2.6469779601696886e-23" ixz="1.0587911840678754e-22"/>
  </inertial>
  <visual>
    <origin xyz="-0.098626 0.008207 -0.036187" rpy="0 0 0"/>
    <geometry>
      <mesh filename="meshes/Washer_41.stl" scale="0.001 0.001 0.001"/>
    </geometry>
    <material name="silver"/>
    <material/>
  </visual>
  <collision>
    <origin xyz="-0.098626 0.008207 -0.036187" rpy="0 0 0"/>
    <geometry>
      <mesh filename="meshes/Washer_41.stl" scale="0.001 0.001 0.001"/>
    </geometry>
  </collision>
</link>

<link name="support_attach_foot_R1">
  <inertial>
    <origin xyz="-0.014980904734635064 0.010766135645748173 1.250523819568139e-05" rpy="0 0 0"/>
    <mass value="0.000991152631600229"/>
    <inertia ixx="5.8991429834111377e-08" iyy="1.8810254074607874e-07" izz="2.4162816800247254e-07" ixy="-6.052279683264249e-11" iyz="-1.690267058889833e-12" ixz="1.585150297816611e-10"/>
  </inertial>
  <visual>
    <origin xyz="-0.113626 -0.021093 -0.071987" rpy="0 0 0"/>
    <geometry>
      <mesh filename="meshes/support_attach_foot_R1.stl" scale="0.001 0.001 0.001"/>
    </geometry>
    <material name="silver"/>
    <material/>
  </visual>
  <collision>
    <origin xyz="-0.113626 -0.021093 -0.071987" rpy="0 0 0"/>
    <geometry>
      <mesh filename="meshes/support_attach_foot_R1.stl" scale="0.001 0.001 0.001"/>
    </geometry>
  </collision>
</link>

<link name="support_attach_foot_L1">
  <inertial>
    <origin xyz="0.015019095265367776 0.010766128492404603 -1.3494761805218913e-05" rpy="0 0 0"/>
    <mass value="0.000991152631600229"/>
    <inertia ixx="5.899142983411053e-08" iyy="1.8810254074607705e-07" izz="2.416281680024772e-07" ixy="-6.052279683984227e-11" iyz="-1.6902670580428e-12" ixz="1.58515029785261e-10"/>
  </inertial>
  <visual>
    <origin xyz="-0.007626 -0.021098 -0.071813" rpy="0 0 0"/>
    <geometry>
      <mesh filename="meshes/support_attach_foot_L1.stl" scale="0.001 0.001 0.001"/>
    </geometry>
    <material name="silver"/>
    <material/>
  </visual>
  <collision>
    <origin xyz="-0.007626 -0.021098 -0.071813" rpy="0 0 0"/>
    <geometry>
      <mesh filename="meshes/support_attach_foot_L1.stl" scale="0.001 0.001 0.001"/>
    </geometry>
  </collision>
</link>

<link name="foot_Servo_roll_R1">
  <inertial>
    <origin xyz="0.008500252656323384 0.01467668243515189 -0.02448910225051438" rpy="0 0 0"/>
    <mass value="0.05848616148988177"/>
    <inertia ixx="1.6766044291457094e-05" iyy="1.3912202333717853e-05" izz="1.0380681129500287e-05" ixy="2.870942834051586e-10" iyz="-4.782213604569195e-07" ixz="4.2782076514237544e-10"/>
  </inertial>
  <visual>
    <origin xyz="-0.090128 -0.039623 -0.072" rpy="0 0 0"/>
    <geometry>
      <mesh filename="meshes/foot_Servo_roll_R1.stl" scale="0.001 0.001 0.001"/>
    </geometry>
    <material name="silver"/>
    <material/>
  </visual>
  <collision>
    <origin xyz="-0.090128 -0.039623 -0.072" rpy="0 0 0"/>
    <geometry>
      <mesh filename="meshes/foot_Servo_roll_R1.stl" scale="0.001 0.001 0.001"/>
    </geometry>
  </collision>
</link>

<link name="foot_servo_roll_L1">
  <inertial>
    <origin xyz="0.008500252656324985 0.014676675281807584 -0.024489102250515565" rpy="0 0 0"/>
    <mass value="0.05848616148988177"/>
    <inertia ixx="1.6766044291456064e-05" iyy="1.3912202333717257e-05" izz="1.0380681129500233e-05" ixy="2.8709428202280084e-10" iyz="-4.78221360458058e-07" ixz="4.2782076464093193e-10"/>
  </inertial>
  <visual>
    <origin xyz="-0.014128 -0.039628 -0.0718" rpy="0 0 0"/>
    <geometry>
      <mesh filename="meshes/foot_servo_roll_L1.stl" scale="0.001 0.001 0.001"/>
    </geometry>
    <material name="silver"/>
    <material/>
  </visual>
  <collision>
    <origin xyz="-0.014128 -0.039628 -0.0718" rpy="0 0 0"/>
    <geometry>
      <mesh filename="meshes/foot_servo_roll_L1.stl" scale="0.001 0.001 0.001"/>
    </geometry>
  </collision>
</link>

<link name="foot_connect_R1">
  <inertial>
    <origin xyz="8.755939616411634e-08 -0.02418545026519283 -0.018933957152685102" rpy="0 0 0"/>
    <mass value="0.009163335973748653"/>
    <inertia ixx="5.388156082317761e-06" iyy="2.0604137855260025e-06" izz="4.098092484132955e-06" ixy="-3.4389537658524594e-19" iyz="3.226179646354344e-08" ixz="-3.2221133313553585e-18"/>
  </inertial>
  <visual>
    <origin xyz="-0.098628 -0.033873 -0.0362" rpy="0 0 0"/>
    <geometry>
      <mesh filename="meshes/foot_connect_R1.stl" scale="0.001 0.001 0.001"/>
    </geometry>
    <material name="silver"/>
    <material/>
  </visual>
  <collision>
    <origin xyz="-0.098628 -0.033873 -0.0362" rpy="0 0 0"/>
    <geometry>
      <mesh filename="meshes/foot_connect_R1.stl" scale="0.001 0.001 0.001"/>
    </geometry>
  </collision>
</link>

<link name="foot_connect_L1">
  <inertial>
    <origin xyz="8.755939907845178e-08 -0.02418545741853705 -0.018933957152686056" rpy="0 0 0"/>
    <mass value="0.009163335973748653"/>
    <inertia ixx="5.388156082317786e-06" iyy="2.060413785525978e-06" izz="4.09809248413296e-06" ixy="-1.6855955650360577e-19" iyz="3.226179646356017e-08" ixz="-3.2534535504037676e-18"/>
  </inertial>
  <visual>
    <origin xyz="-0.022628 -0.033878 -0.036" rpy="0 0 0"/>
    <geometry>
      <mesh filename="meshes/foot_connect_L1.stl" scale="0.001 0.001 0.001"/>
    </geometry>
    <material name="silver"/>
    <material/>
  </visual>
  <collision>
    <origin xyz="-0.022628 -0.033878 -0.036" rpy="0 0 0"/>
    <geometry>
      <mesh filename="meshes/foot_connect_L1.stl" scale="0.001 0.001 0.001"/>
    </geometry>
  </collision>
</link>

<link name="Bush_31">
  <inertial>
    <origin xyz="0.0986256795885939 -0.01442899196504672 -0.036187002900855" rpy="0 0 0"/>
    <mass value="0.00033912761870964644"/>
    <inertia ixx="3.55341069830501e-09" iyy="4.084788845233821e-09" izz="3.5534104748454365e-09" ixy="0.0" iyz="1.4328091698398524e-19" ixz="2.117582368135751e-22"/>
  </inertial>
  <visual>
    <origin xyz="-0.0 -0.0019 -0.072374" rpy="0 0 0"/>
    <geometry>
      <mesh filename="meshes/Bush_31.stl" scale="0.001 0.001 0.001"/>
    </geometry>
    <material name="silver"/>
    <material/>
  </visual>
  <collision>
    <origin xyz="-0.0 -0.0019 -0.072374" rpy="0 0 0"/>
    <geometry>
      <mesh filename="meshes/Bush_31.stl" scale="0.001 0.001 0.001"/>
    </geometry>
  </collision>
</link>

<link name="Bush_41">
  <inertial>
    <origin xyz="0.022625692096272715 -0.014423999118389902 -0.036012270220528525" rpy="0 0 0"/>
    <mass value="0.00033912761870964644"/>
    <inertia ixx="3.553410698305116e-09" iyy="4.084788845233398e-09" izz="3.5534104748462836e-09" ixy="-2.6469779601696886e-23" iyz="1.4328091698398524e-19" ixz="5.293955920339377e-23"/>
  </inertial>
  <visual>
    <origin xyz="-0.0 -0.0019 -0.072025" rpy="0 0 0"/>
    <geometry>
      <mesh filename="meshes/Bush_41.stl" scale="0.001 0.001 0.001"/>
    </geometry>
    <material name="silver"/>
    <material/>
  </visual>
  <collision>
    <origin xyz="-0.0 -0.0019 -0.072025" rpy="0 0 0"/>
    <geometry>
      <mesh filename="meshes/Bush_41.stl" scale="0.001 0.001 0.001"/>
    </geometry>
  </collision>
</link>

<link name="Washer_21">
  <inertial>
    <origin xyz="8.755903861679126e-08 -0.000949506282329789 -3.883859768794018e-07" rpy="0 0 0"/>
    <mass value="0.0001569470040624276"/>
    <inertia ixx="2.0953979171296658e-09" iyy="4.0963659191391015e-09" izz="2.0953977827866404e-09" ixy="5.624828165360588e-23" iyz="0.0" ixz="0.0"/>
  </inertial>
  <visual>
    <origin xyz="-0.022128 0.007627 -0.236499" rpy="0 0 0"/>
    <geometry>
      <mesh filename="meshes/Washer_21.stl" scale="0.001 0.001 0.001"/>
    </geometry>
    <material name="silver"/>
    <material/>
  </visual>
  <collision>
    <origin xyz="-0.022128 0.007627 -0.236499" rpy="0 0 0"/>
    <geometry>
      <mesh filename="meshes/Washer_21.stl" scale="0.001 0.001 0.001"/>
    </geometry>
  </collision>
</link>

<link name="Foot_L1">
  <inertial>
    <origin xyz="-2.7052128486727833e-05 0.007324772290066046 -0.0006236210593121259" rpy="0 0 0"/>
    <mass value="0.11874731720777594"/>
    <inertia ixx="0.00013504403572545478" iyy="5.5253122397327985e-05" izz="0.00018972335778322334" ixy="1.6680131596703596e-08" iyz="2.294744148063528e-06" ixz="-1.2134276637682498e-09"/>
  </inertial>
  <visual>
    <origin xyz="-0.016628 0.002622 -0.002" rpy="0 0 0"/>
    <geometry>
      <mesh filename="meshes/Foot_L1.stl" scale="0.001 0.001 0.001"/>
    </geometry>
    <material name="silver"/>
    <material/>
  </visual>
  <collision>
    <origin xyz="-0.016628 0.002622 -0.002" rpy="0 0 0"/>
    <geometry>
      <mesh filename="meshes/Foot_L1.stl" scale="0.001 0.001 0.001"/>
    </geometry>
  </collision>
</link>

<link name="Foot_R1">
  <inertial>
    <origin xyz="0.012027451028017819 -0.01725251116732917 -0.0007467666233469173" rpy="0 0 0"/>
    <mass value="0.12955381074460537"/>
    <inertia ixx="0.00014571037521278116" iyy="6.0318526185315115e-05" izz="0.00020541185133327164" ixy="-1.6849622382276346e-08" iyz="2.3689601189101116e-06" ixz="1.2527184422173737e-09"/>
  </inertial>
  <visual>
    <origin xyz="-0.092628 -0.022373 -0.0022" rpy="0 0 0"/>
    <geometry>
      <mesh filename="meshes/Foot_R1.stl" scale="0.001 0.001 0.001"/>
    </geometry>
    <material name="silver"/>
    <material/>
  </visual>
  <collision>
    <origin xyz="-0.092628 -0.022373 -0.0022" rpy="0 0 0"/>
    <geometry>
      <mesh filename="meshes/Foot_R1.stl" scale="0.001 0.001 0.001"/>
    </geometry>
  </collision>
</link>

<joint name="base_joint" type="fixed">
  
  <!--origin xyz="-0.07139043603557767 -0.19954551899156534 0.325032870177832" rpy="0 0 0"/-->
  <origin xyz="0.05139043603557767 -0.00009954551899156534 0.335032870177832" rpy="0 0 0"/>
  <parent link="base_link"/>
  <child link="base_box"/>
</joint>

<joint name="Rigid_1" type="fixed">
  <origin xyz="0.060628 0.038873 0.308999" rpy="0 0 0"/>
  <parent link="base_link"/>
  <child link="connect_link_v11"/>
</joint>

<joint name="Rigid_2" type="fixed">
  <origin xyz="-0.025 -0.006 -0.0065" rpy="0 0 0"/>
  <parent link="connect_link_v11"/>
  <child link="Hip_servo_Yaw_L1"/>
</joint>

<joint name="Rigid_3" type="fixed">
  <origin xyz="0.025 -0.006 -0.0065" rpy="0 0 0"/>
  <parent link="connect_link_v11"/>
  <child link="Hip_servo_Yaw__R_1"/>
</joint>

<joint name="Rigid_4" type="fixed">
  <origin xyz="0.0 0.0 -0.032" rpy="0 0 0"/>
  <parent link="Hip_servo_Yaw_L1"/>
  <child link="connect_link_21"/>
</joint>

<joint name="Rigid_5" type="fixed">
  <origin xyz="0.025 0.006 -0.0015" rpy="0 0 0"/>
  <parent link="connect_link_21"/>
  <child link="support_link1"/>
</joint>

<joint name="Revolute_12" type="continuous">
  <origin xyz="-0.0135 -0.0225 -0.037" rpy="0 0 0"/>
  <parent link="Hip_servo_Yaw_L1"/>
  <child link="Hip_bracket_yaw_L_v11"/>
  <axis xyz="-0.0 0.0 -1.0"/>
</joint>
<transmission name="Revolute_12_tran">
  <type>transmission_interface/SimpleTransmission</type>
  <joint name="Revolute_12">
    <hardwareInterface>PositionJointInterface</hardwareInterface>
  </joint>
  <actuator name="Revolute_12_actr">
    <hardwareInterface>PositionJointInterface</hardwareInterface>
    <mechanicalReduction>1</mechanicalReduction>
  </actuator>
</transmission>

<joint name="Revolute_14" type="continuous">
  <origin xyz="0.0135 -0.0225 -0.0368" rpy="0 0 0"/>
  <parent link="Hip_servo_Yaw__R_1"/>
  <child link="Hip_Bracket_yaw_R1"/>
  <axis xyz="-0.0 0.0 -1.0"/>
</joint>
<transmission name="Revolute_14_tran">
  <type>transmission_interface/SimpleTransmission</type>
  <joint name="Revolute_14">
    <hardwareInterface>PositionJointInterface</hardwareInterface>
  </joint>
  <actuator name="Revolute_14_actr">
    <hardwareInterface>PositionJointInterface</hardwareInterface>
    <mechanicalReduction>1</mechanicalReduction>
  </actuator>
</transmission>

<joint name="Rigid_15" type="fixed">
  <origin xyz="-0.022128 -0.236498 0.013626" rpy="0 0 0"/>
  <parent link="Hip_bracket_yaw_L_v11"/>
  <child link="Bush_2_1"/>
</joint>

<joint name="Rigid_16" type="fixed">
  <origin xyz="0.077128 0.236699 0.013626" rpy="0 0 0"/>
  <parent link="Hip_Bracket_yaw_R1"/>
  <child link="Bush_1_v11"/>
</joint>

<joint name="Rigid_17" type="fixed">
  <origin xyz="0.022 -0.247072 -0.279325" rpy="0 0 0"/>
  <parent link="Bush_1_v11"/>
  <child link="Washer_11"/>
</joint>

<joint name="Revolute_42" type="continuous">
  <origin xyz="-0.022128 -0.236498 -0.034374" rpy="0 0 0"/>
  <parent link="Hip_bracket_yaw_L_v11"/>
  <child link="Hip_servo_roll_L1"/>
  <axis xyz="-0.0 -1.0 -0.0"/>
</joint>
<transmission name="Revolute_42_tran">
  <type>transmission_interface/SimpleTransmission</type>
  <joint name="Revolute_42">
    <hardwareInterface>PositionJointInterface</hardwareInterface>
  </joint>
  <actuator name="Revolute_42_actr">
    <hardwareInterface>PositionJointInterface</hardwareInterface>
    <mechanicalReduction>1</mechanicalReduction>
  </actuator>
</transmission>

<joint name="Rigid_43" type="fixed">
  <origin xyz="0.030628 0.266273 -0.030426" rpy="0 0 0"/>
  <parent link="Hip_servo_roll_L1"/>
  <child link="Support_roll_servo_L1"/>
</joint>

<joint name="Rigid_44" type="fixed">
  <origin xyz="-0.023502 -0.01855 1.2e-05" rpy="0 0 0"/>
  <parent link="Support_roll_servo_L1"/>
  <child link="Hip_servo_Pitch_L1"/>
</joint>

<joint name="Revolute_45" type="continuous">
  <origin xyz="0.0 0.024 -0.029" rpy="0 0 0"/>
  <parent link="Hip_Bracket_yaw_R1"/>
  <child link="Hip_servo_roll_R1"/>
  <axis xyz="-0.0 -1.0 -0.0"/>
</joint>
<transmission name="Revolute_45_tran">
  <type>transmission_interface/SimpleTransmission</type>
  <joint name="Revolute_45">
    <hardwareInterface>PositionJointInterface</hardwareInterface>
  </joint>
  <actuator name="Revolute_45_actr">
    <hardwareInterface>PositionJointInterface</hardwareInterface>
    <mechanicalReduction>1</mechanicalReduction>
  </actuator>
</transmission>

<joint name="Rigid_46" type="fixed">
  <origin xyz="0.0085 0.00575 -0.0358" rpy="0 0 0"/>
  <parent link="Hip_servo_roll_R1"/>
  <child link="Support_roll_Servo_R1"/>
</joint>

<joint name="Rigid_47" type="fixed">
  <origin xyz="0.006498 -0.01853 -1.3e-05" rpy="0 0 0"/>
  <parent link="Support_roll_Servo_R1"/>
  <child link="Hip_servo_Pitch_R1"/>
</joint>

<joint name="Rigid_48" type="fixed">
  <origin xyz="0.0 -0.0235 0.0403" rpy="0 0 0"/>
  <parent link="Hip_servo_Pitch_L1"/>
  <child link="side_attach_L_hip1"/>
</joint>

<joint name="Rigid_49" type="fixed">
  <origin xyz="-0.03 -0.0235 0.0403" rpy="0 0 0"/>
  <parent link="Hip_servo_Pitch_R1"/>
  <child link="side_attach_R_hip1"/>
</joint>

<joint name="Rigid_50" type="fixed">
  <origin xyz="0.03425 -0.0085 0.0358" rpy="0 0 0"/>
  <parent link="Hip_servo_Pitch_L1"/>
  <child link="Horn_L_pitch1"/>
</joint>

<joint name="Rigid_51" type="fixed">
  <origin xyz="-0.03425 -0.0085 0.0358" rpy="0 0 0"/>
  <parent link="Hip_servo_Pitch_R1"/>
  <child link="Horn_R_pitch1"/>
</joint>

<joint name="Revolute_52" type="continuous">
  <origin xyz="-0.00575 -0.0085 0.0358" rpy="0 0 0"/>
  <parent link="Hip_servo_Pitch_L1"/>
  <child link="Hip_Knee_bracket_L1"/>
  <axis xyz="-1.0 0.0 0.0"/>
</joint>
<transmission name="Revolute_52_tran">
  <type>transmission_interface/SimpleTransmission</type>
  <joint name="Revolute_52">
    <hardwareInterface>PositionJointInterface</hardwareInterface>
  </joint>
  <actuator name="Revolute_52_actr">
    <hardwareInterface>PositionJointInterface</hardwareInterface>
    <mechanicalReduction>1</mechanicalReduction>
  </actuator>
</transmission>

<joint name="Revolute_53" type="continuous">
  <origin xyz="0.00575 -0.0085 0.0358" rpy="0 0 0"/>
  <parent link="Hip_servo_Pitch_R1"/>
  <child link="Hip_Knee_Backet_R1"/>
  <axis xyz="1.0 -0.0 0.0"/>
</joint>
<transmission name="Revolute_53_tran">
  <type>transmission_interface/SimpleTransmission</type>
  <joint name="Revolute_53">
    <hardwareInterface>PositionJointInterface</hardwareInterface>
  </joint>
  <actuator name="Revolute_53_actr">
    <hardwareInterface>PositionJointInterface</hardwareInterface>
    <mechanicalReduction>1</mechanicalReduction>
  </actuator>
</transmission>

<joint name="Rigid_54" type="fixed">
  <origin xyz="-0.01525 -0.005 -0.0589" rpy="0 0 0"/>
  <parent link="Hip_Knee_Backet_R1"/>
  <child link="Knee_attach_R1"/>
</joint>

<joint name="Rigid_55" type="fixed">
  <origin xyz="0.01525 -0.005 -0.0589" rpy="0 0 0"/>
  <parent link="Hip_Knee_bracket_L1"/>
  <child link="Knee_attach_L1"/>
</joint>

<joint name="Rigid_56" type="fixed">
  <origin xyz="0.009 -0.0035 -0.0058" rpy="0 0 0"/>
  <parent link="Knee_attach_R1"/>
  <child link="Knee_servo_Pitch_R1"/>
</joint>

<joint name="Rigid_57" type="fixed">
  <origin xyz="-0.009 -0.0035 -0.0058" rpy="0 0 0"/>
  <parent link="Knee_attach_L1"/>
  <child link="Knee_servo_Pitch_L1"/>
</joint>

<joint name="Rigid_58" type="fixed">
  <origin xyz="-0.03425 0.0085 -0.0358" rpy="0 0 0"/>
  <parent link="Knee_servo_Pitch_R1"/>
  <child link="Horn_knee_R1"/>
</joint>

<joint name="Rigid_59" type="fixed">
  <origin xyz="0.03315 0.0085 -0.0358" rpy="0 0 0"/>
  <parent link="Knee_servo_Pitch_L1"/>
  <child link="horn_knee_L1"/>
</joint>

<joint name="Revolute_60" type="continuous">
  <origin xyz="0.00575 0.0085 -0.0358" rpy="0 0 0"/>
  <parent link="Knee_servo_Pitch_R1"/>
  <child link="Knee_Foot_bracket_R1"/>
  <axis xyz="1.0 -0.0 0.0"/>
</joint>
<transmission name="Revolute_60_tran">
  <type>transmission_interface/SimpleTransmission</type>
  <joint name="Revolute_60">
    <hardwareInterface>PositionJointInterface</hardwareInterface>
  </joint>
  <actuator name="Revolute_60_actr">
    <hardwareInterface>PositionJointInterface</hardwareInterface>
    <mechanicalReduction>1</mechanicalReduction>
  </actuator>
</transmission>

<joint name="Revolute_61" type="continuous">
  <origin xyz="-0.00575 0.0085 -0.0358" rpy="0 0 0"/>
  <parent link="Knee_servo_Pitch_L1"/>
  <child link="Knee_Foot_Bracket_L1"/>
  <axis xyz="-1.0 0.0 -0.0"/>
</joint>
<transmission name="Revolute_61_tran">
  <type>transmission_interface/SimpleTransmission</type>
  <joint name="Revolute_61">
    <hardwareInterface>PositionJointInterface</hardwareInterface>
  </joint>
  <actuator name="Revolute_61_actr">
    <hardwareInterface>PositionJointInterface</hardwareInterface>
    <mechanicalReduction>1</mechanicalReduction>
  </actuator>
</transmission>

<joint name="Revolute_64" type="continuous">
  <origin xyz="0.0415 -0.0005 -0.099998" rpy="0 0 0"/>
  <parent link="Knee_Foot_Bracket_L1"/>
  <child link="Foot_servo_pitch_L1"/>
  <axis xyz="1.0 -0.0 0.0"/>
</joint>
<transmission name="Revolute_64_tran">
  <type>transmission_interface/SimpleTransmission</type>
  <joint name="Revolute_64">
    <hardwareInterface>PositionJointInterface</hardwareInterface>
  </joint>
  <actuator name="Revolute_64_actr">
    <hardwareInterface>PositionJointInterface</hardwareInterface>
    <mechanicalReduction>1</mechanicalReduction>
  </actuator>
</transmission>

<joint name="Rigid_65" type="fixed">
  <origin xyz="0.045512 0.032925 -0.045099" rpy="0 0 0"/>
  <parent link="Foot_servo_pitch_L1"/>
  <child link="Horn_foot_L1"/>
</joint>

<joint name="Revolute_66" type="continuous">
  <origin xyz="-0.0415 -0.0005 -0.099999" rpy="0 0 0"/>
  <parent link="Knee_Foot_bracket_R1"/>
  <child link="Foot_servo_pitch_R1"/>
  <axis xyz="1.0 -0.0 -0.0"/>
</joint>
<transmission name="Revolute_66_tran">
  <type>transmission_interface/SimpleTransmission</type>
  <joint name="Revolute_66">
    <hardwareInterface>PositionJointInterface</hardwareInterface>
  </joint>
  <actuator name="Revolute_66_actr">
    <hardwareInterface>PositionJointInterface</hardwareInterface>
    <mechanicalReduction>1</mechanicalReduction>
  </actuator>
</transmission>

<joint name="Rigid_67" type="fixed">
  <origin xyz="-0.045687 0.077176 -0.045094" rpy="0 0 0"/>
  <parent link="Foot_servo_pitch_R1"/>
  <child link="horn_foot_R1"/>
</joint>

<joint name="Rigid_68" type="fixed">
  <origin xyz="-0.03575 -0.015 0.0295" rpy="0 0 0"/>
  <parent link="Foot_servo_pitch_L1"/>
  <child link="side_attach_foot_L1"/>
</joint>

<joint name="Rigid_69" type="fixed">
  <origin xyz="0.00575 -0.015 0.0295" rpy="0 0 0"/>
  <parent link="Foot_servo_pitch_R1"/>
  <child link="side_attach_foot_R1"/>
</joint>

<joint name="Rigid_70" type="fixed">
  <origin xyz="0.015 -0.0058 -0.0295" rpy="0 0 0"/>
  <parent link="side_attach_foot_L1"/>
  <child link="Washer_31"/>
</joint>

<joint name="Rigid_71" type="fixed">
  <origin xyz="0.015 -0.0058 -0.0295" rpy="0 0 0"/>
  <parent link="side_attach_foot_R1"/>
  <child link="Washer_41"/>
</joint>

<joint name="Rigid_72" type="fixed">
  <origin xyz="0.03575 0.0085 0.0358" rpy="0 0 0"/>
  <parent link="Foot_servo_pitch_R1"/>
  <child link="support_attach_foot_R1"/>
</joint>

<joint name="Rigid_73" type="fixed">
  <origin xyz="-0.03575 0.0085 0.0358" rpy="0 0 0"/>
  <parent link="Foot_servo_pitch_L1"/>
  <child link="support_attach_foot_L1"/>
</joint>

<joint name="Rigid_74" type="fixed">
  <origin xyz="-0.023498 0.01853 1.3e-05" rpy="0 0 0"/>
  <parent link="support_attach_foot_R1"/>
  <child link="foot_Servo_roll_R1"/>
</joint>

<joint name="Rigid_75" type="fixed">
  <origin xyz="0.006502 0.01853 -1.3e-05" rpy="0 0 0"/>
  <parent link="support_attach_foot_L1"/>
  <child link="foot_servo_roll_L1"/>
</joint>

<joint name="Revolute_76" type="continuous">
  <origin xyz="0.0085 -0.00575 -0.0358" rpy="0 0 0"/>
  <parent link="foot_Servo_roll_R1"/>
  <child link="foot_connect_R1"/>
  <axis xyz="-0.0 -1.0 -0.0"/>
</joint>
<transmission name="Revolute_76_tran">
  <type>transmission_interface/SimpleTransmission</type>
  <joint name="Revolute_76">
    <hardwareInterface>PositionJointInterface</hardwareInterface>
  </joint>
  <actuator name="Revolute_76_actr">
    <hardwareInterface>PositionJointInterface</hardwareInterface>
    <mechanicalReduction>1</mechanicalReduction>
  </actuator>
</transmission>

<joint name="Revolute_77" type="continuous">
  <origin xyz="0.0085 -0.00575 -0.0358" rpy="0 0 0"/>
  <parent link="foot_servo_roll_L1"/>
  <child link="foot_connect_L1"/>
  <axis xyz="-0.0 -1.0 -0.0"/>
</joint>
<transmission name="Revolute_77_tran">
  <type>transmission_interface/SimpleTransmission</type>
  <joint name="Revolute_77">
    <hardwareInterface>PositionJointInterface</hardwareInterface>
  </joint>
  <actuator name="Revolute_77_actr">
    <hardwareInterface>PositionJointInterface</hardwareInterface>
    <mechanicalReduction>1</mechanicalReduction>
  </actuator>
</transmission>

<joint name="Rigid_78" type="fixed">
  <origin xyz="-0.098626 0.010107 0.036187" rpy="0 0 0"/>
  <parent link="Washer_41"/>
  <child link="Bush_31"/>
</joint>

<joint name="Rigid_79" type="fixed">
  <origin xyz="-0.022626 0.010102 0.036012" rpy="0 0 0"/>
  <parent link="Washer_31"/>
  <child link="Bush_41"/>
</joint>

<joint name="Rigid_82" type="fixed">
  <origin xyz="0.022128 0.218498 -0.042626" rpy="0 0 0"/>
  <parent link="Bush_2_1"/>
  <child link="Washer_21"/>
</joint>

<joint name="Rigid_85" type="fixed">
  <origin xyz="-0.006 -0.0365 -0.034" rpy="0 0 0"/>
  <parent link="foot_connect_L1"/>
  <child link="Foot_L1"/>
</joint>

<joint name="Rigid_86" type="fixed">
  <origin xyz="-0.006 -0.0115 -0.034" rpy="0 0 0"/>
  <parent link="foot_connect_R1"/>
  <child link="Foot_R1"/>
</joint>

</robot>
